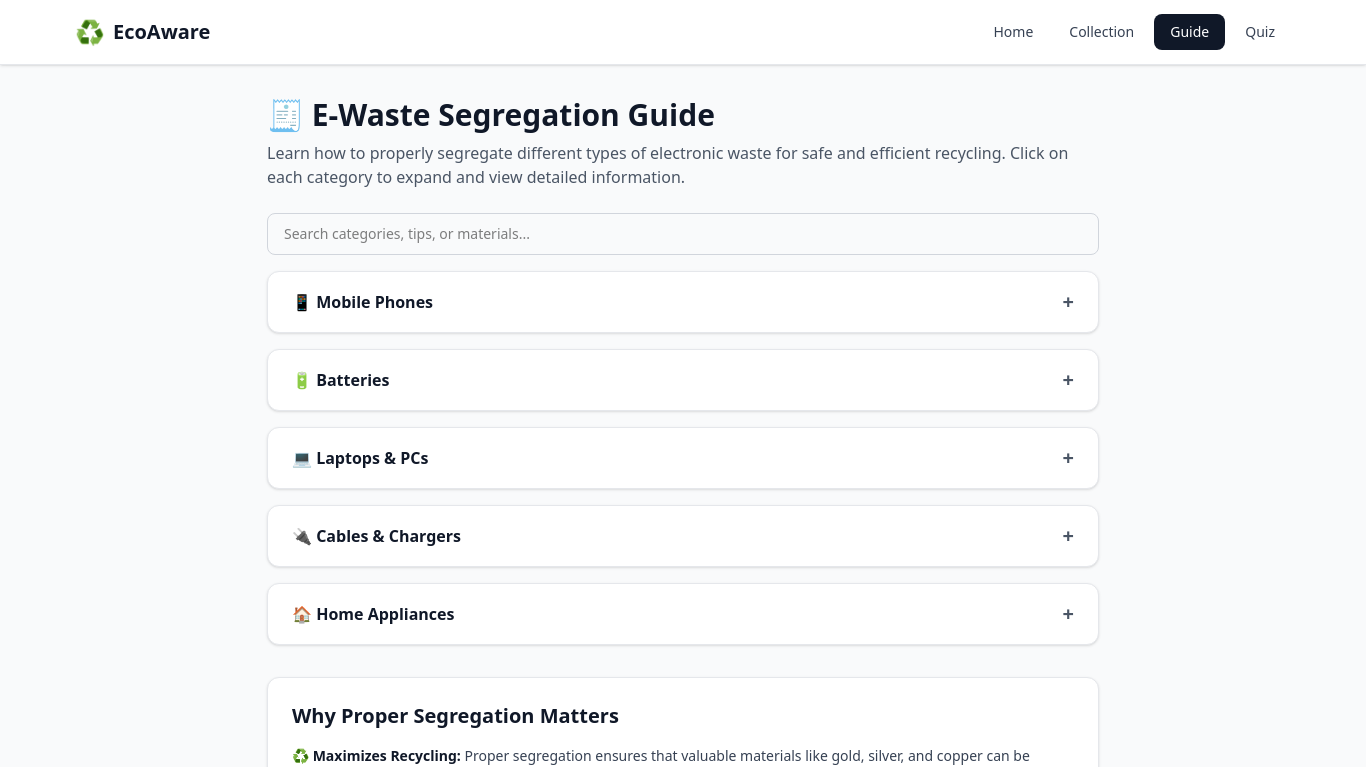
Test: Guide Page › visit guide page
This screenshot has width=1366, height=767.
Check: the text "Learn how to properly segregate different types" is shown, box [267,142,1068,188]
Check: the button with test id "category-2" is shown, box [268,350,1098,410]
Click the button with test id "category-1".
click(363, 302)  # box [268,272,1098,332]
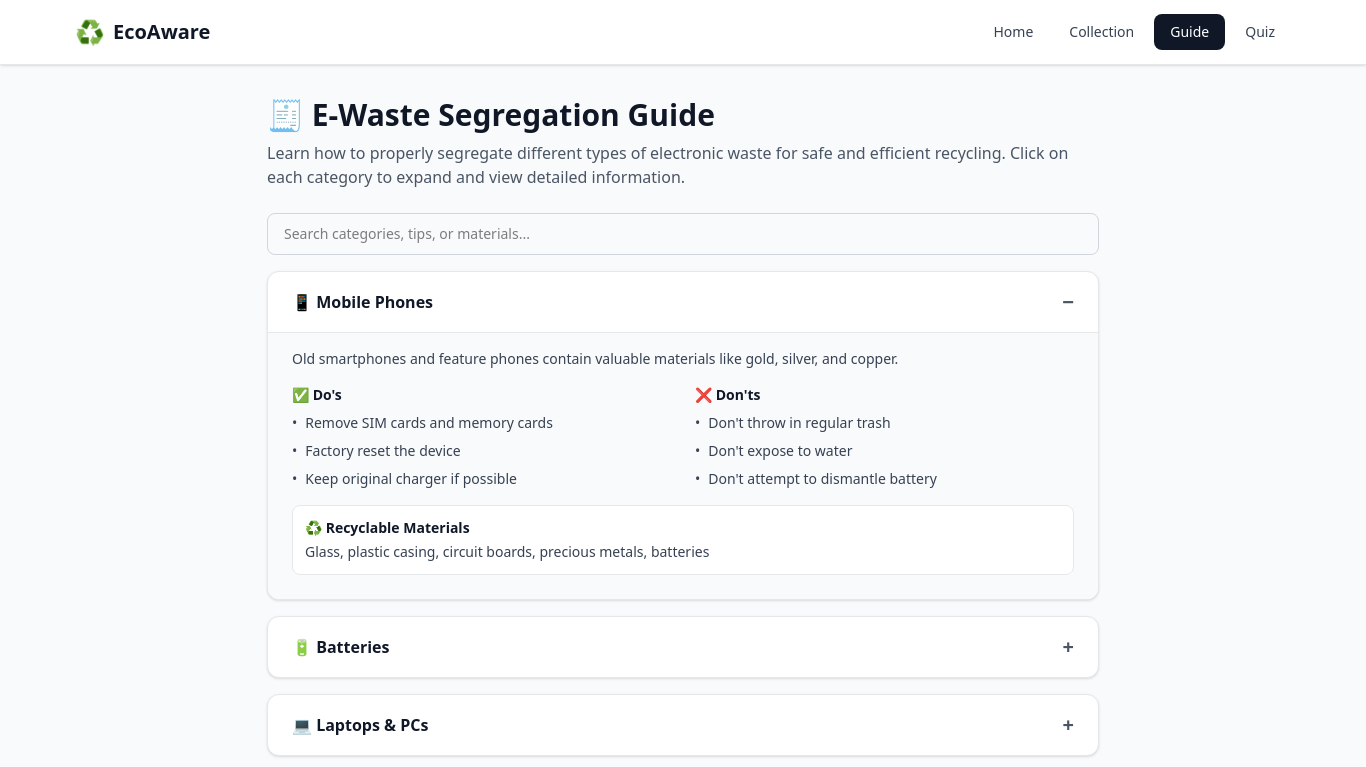
Click the button with test id "category-2".
click(341, 647)  # box [268,617,1098,677]
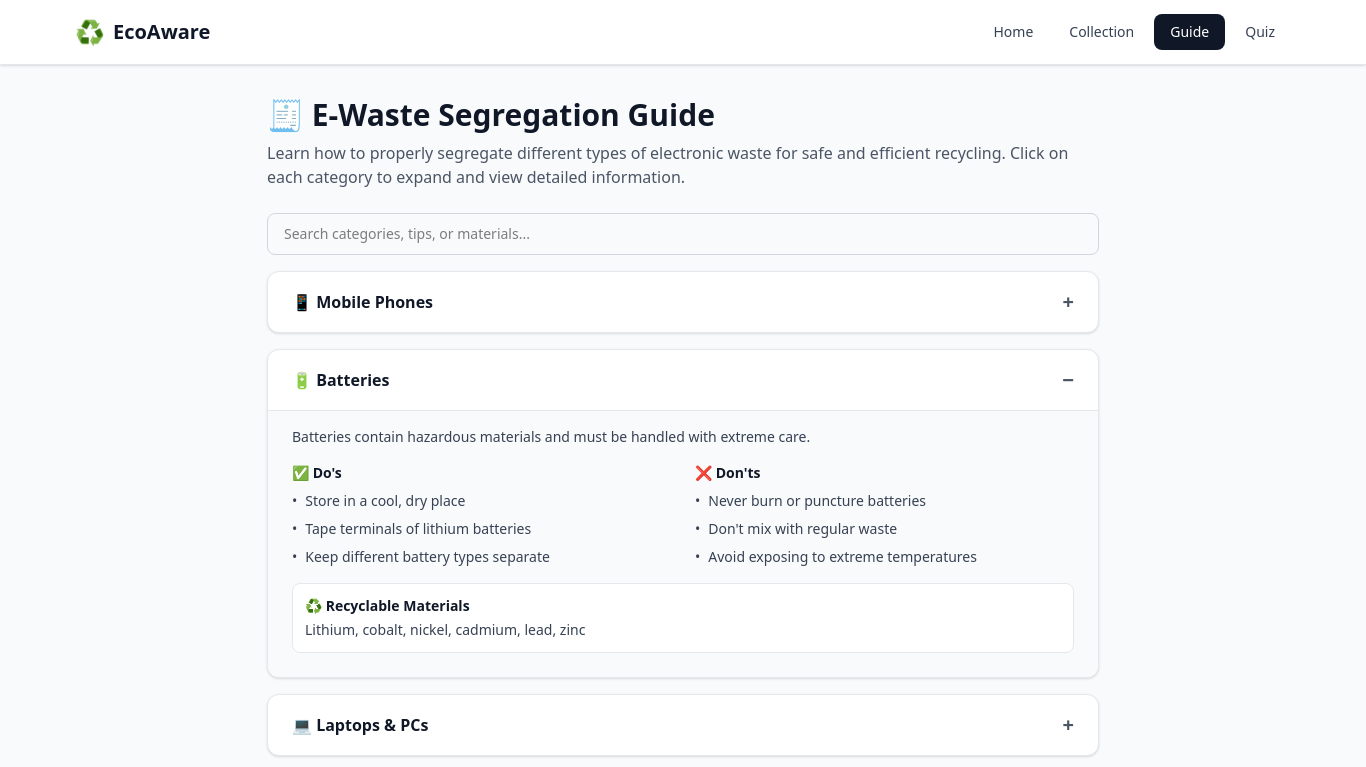
Click the button with test id "category-3".
click(360, 725)  # box [268,695,1098,755]
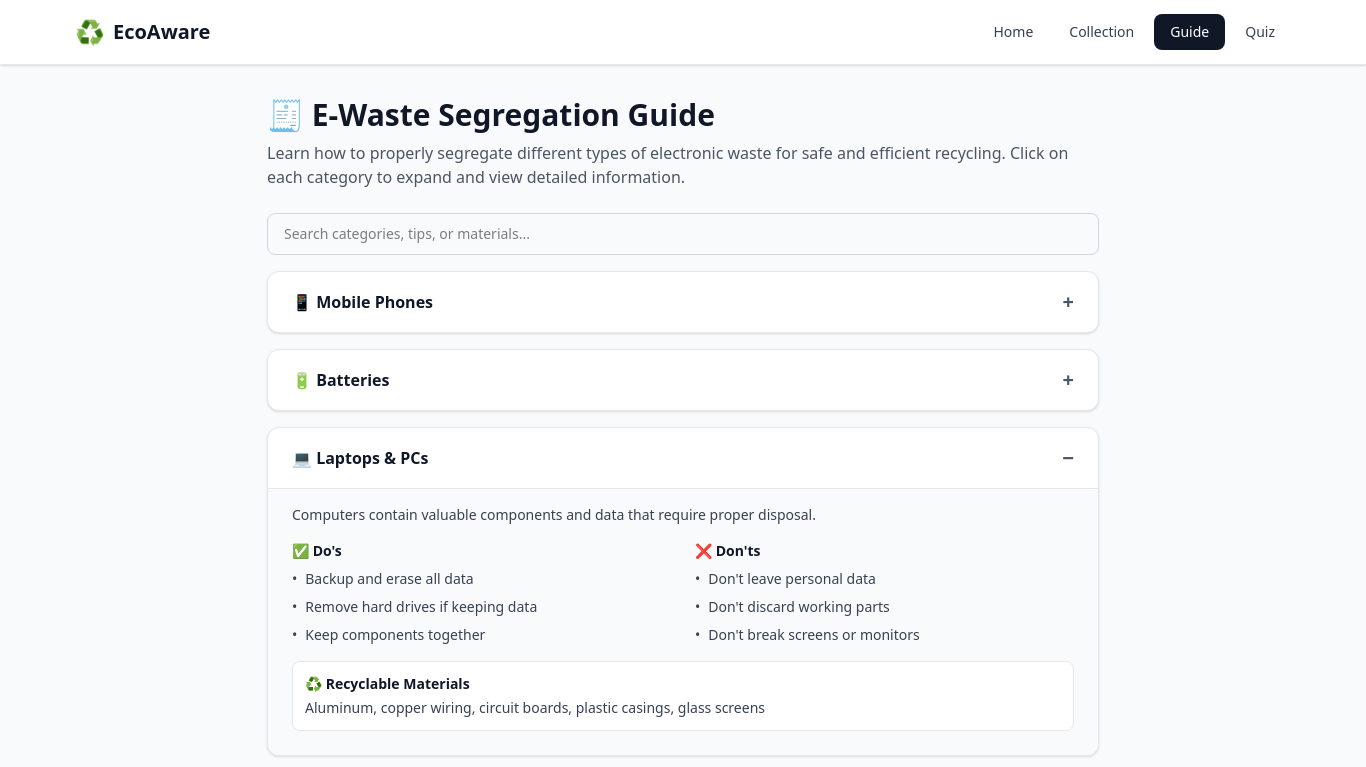
Scroll
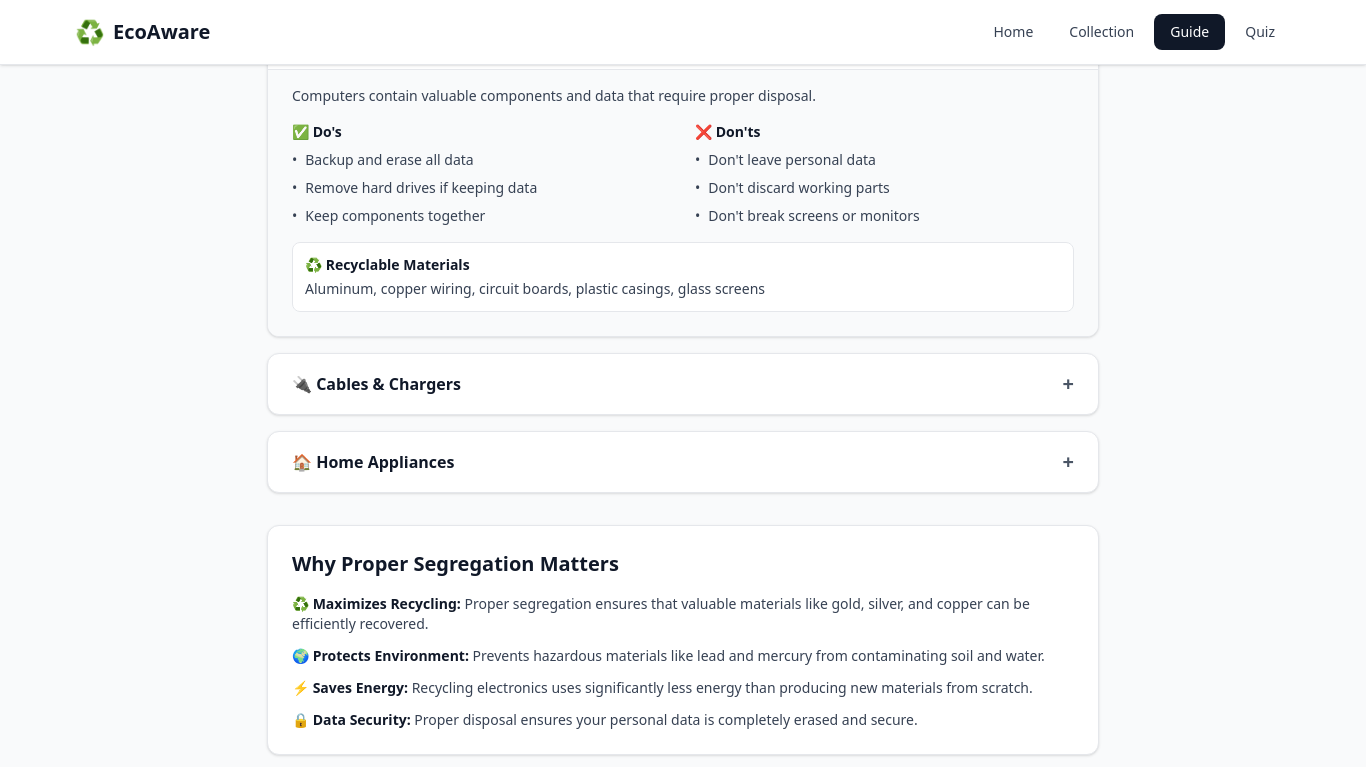
Click the button with test id "category-4".
click(377, 384)  # box [268,354,1098,414]
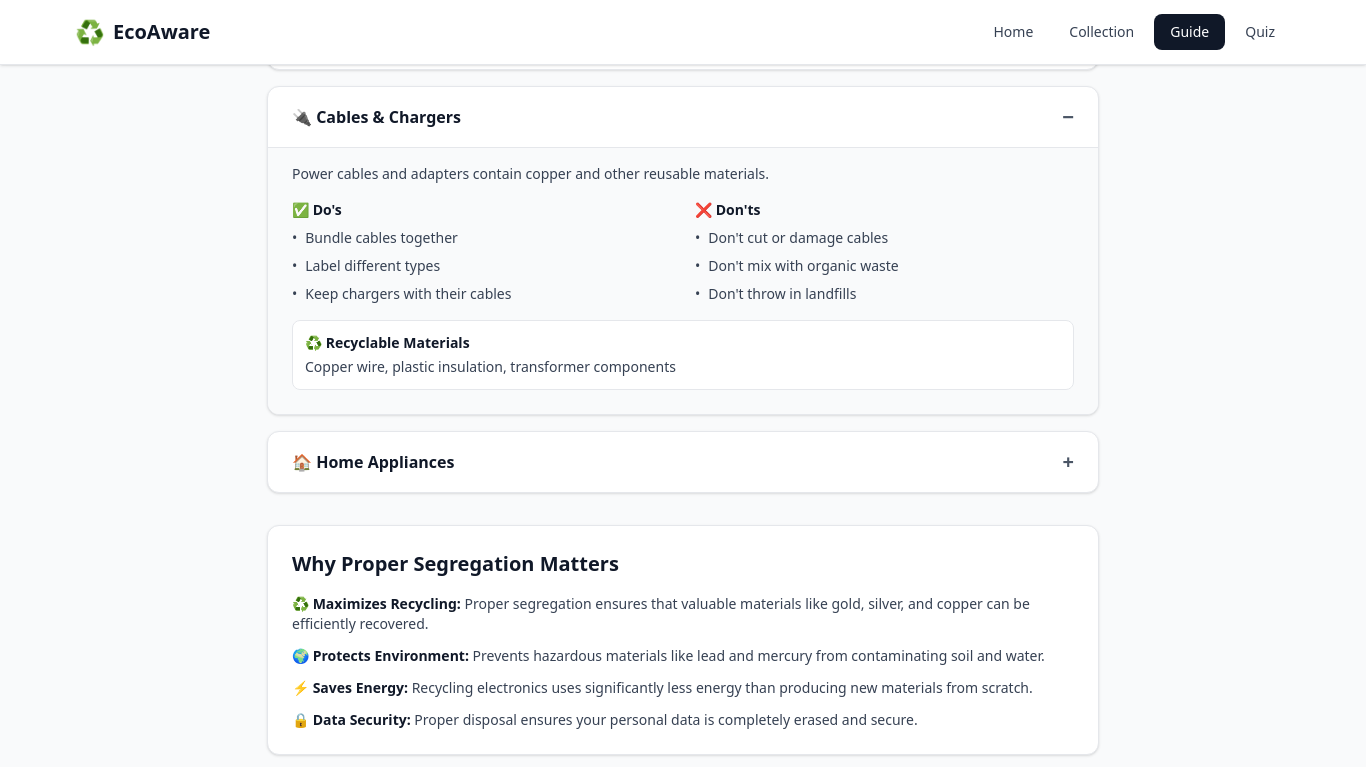
Click the button with test id "category-5".
click(373, 462)  # box [268,432,1098,492]
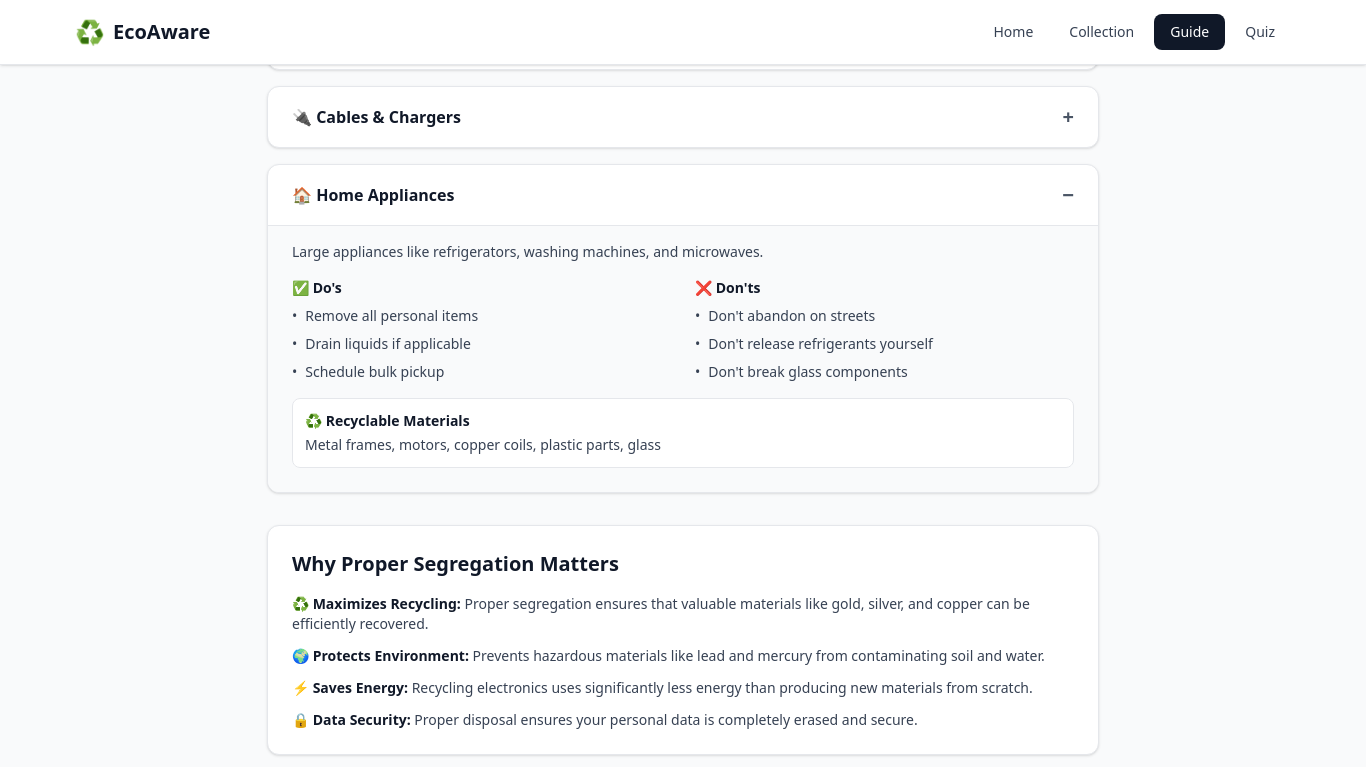
Check: the text "Large appliances like refrigerators, washing machines, and microwaves." is shown, box [292,242,763,261]
